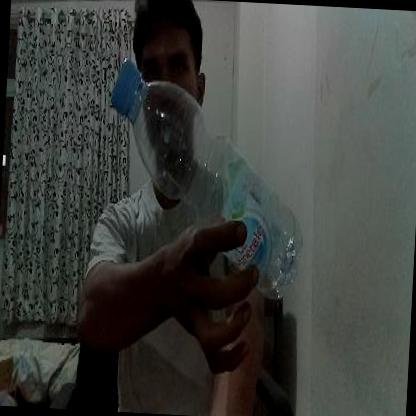plastic_bottles: (109, 55, 303, 300)
